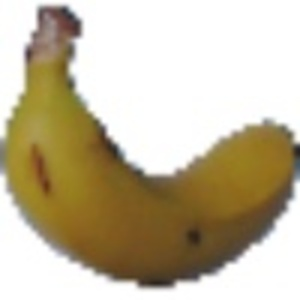banana: (8, 9, 296, 288)
